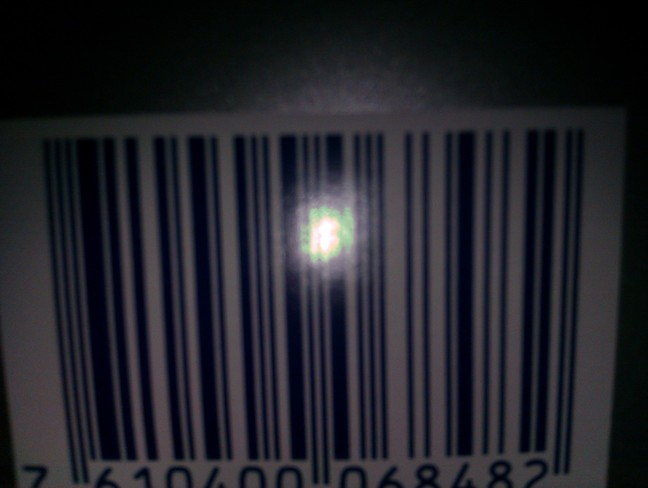detection: (6, 115, 616, 482)
